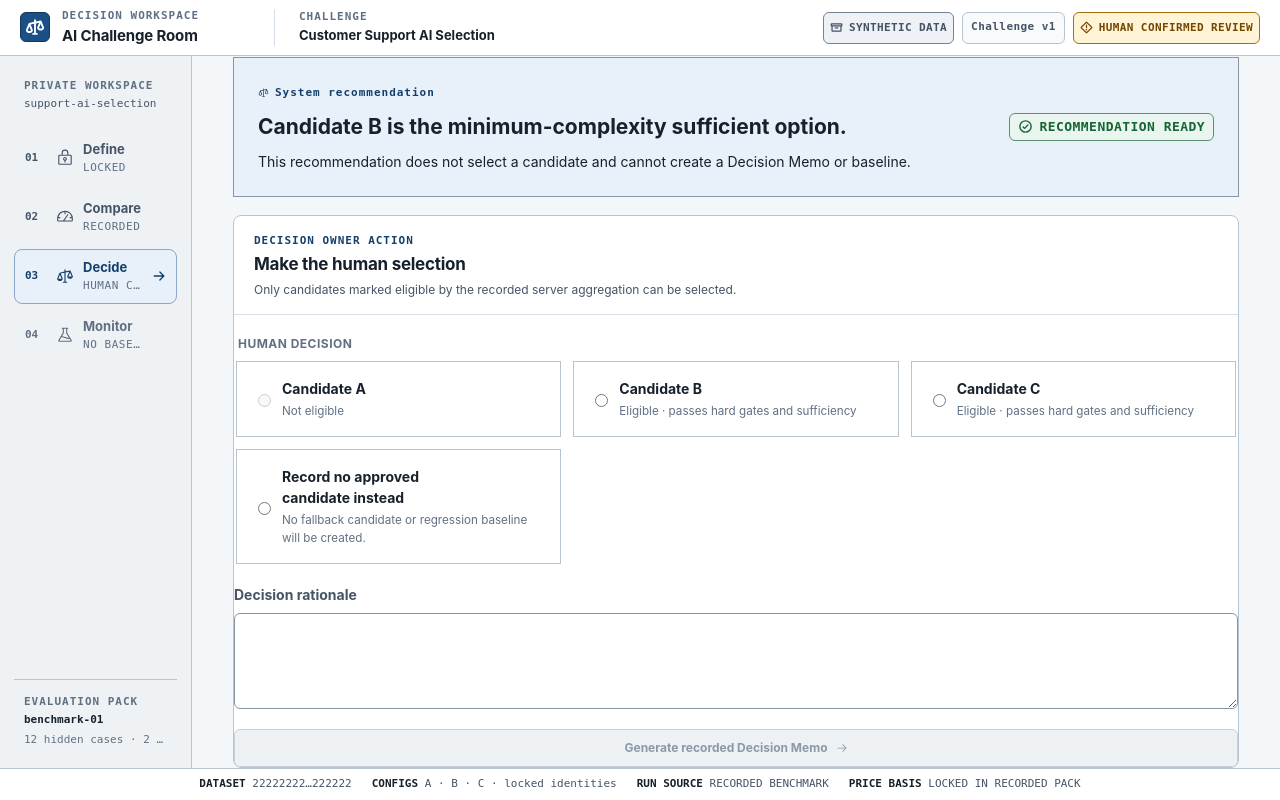
Test case: 권위 artifact 기반 Review·Decide·Monitor 라우트 › Memo 생성과 확인은 각각 서버 mutation 후 projection reload로만 상태를 전진시킨다
(page scrolled)
Check: the text "System recommendation" is shown, box [258, 85, 435, 100]
Check: the checkbox labelled "I reviewed the exact validated Final Decision Memo" is not shown
Click the radio button labelled "Candidate B Eligible · passes hard gates and sufficiency".
click(602, 401)  # box [595, 394, 608, 407]
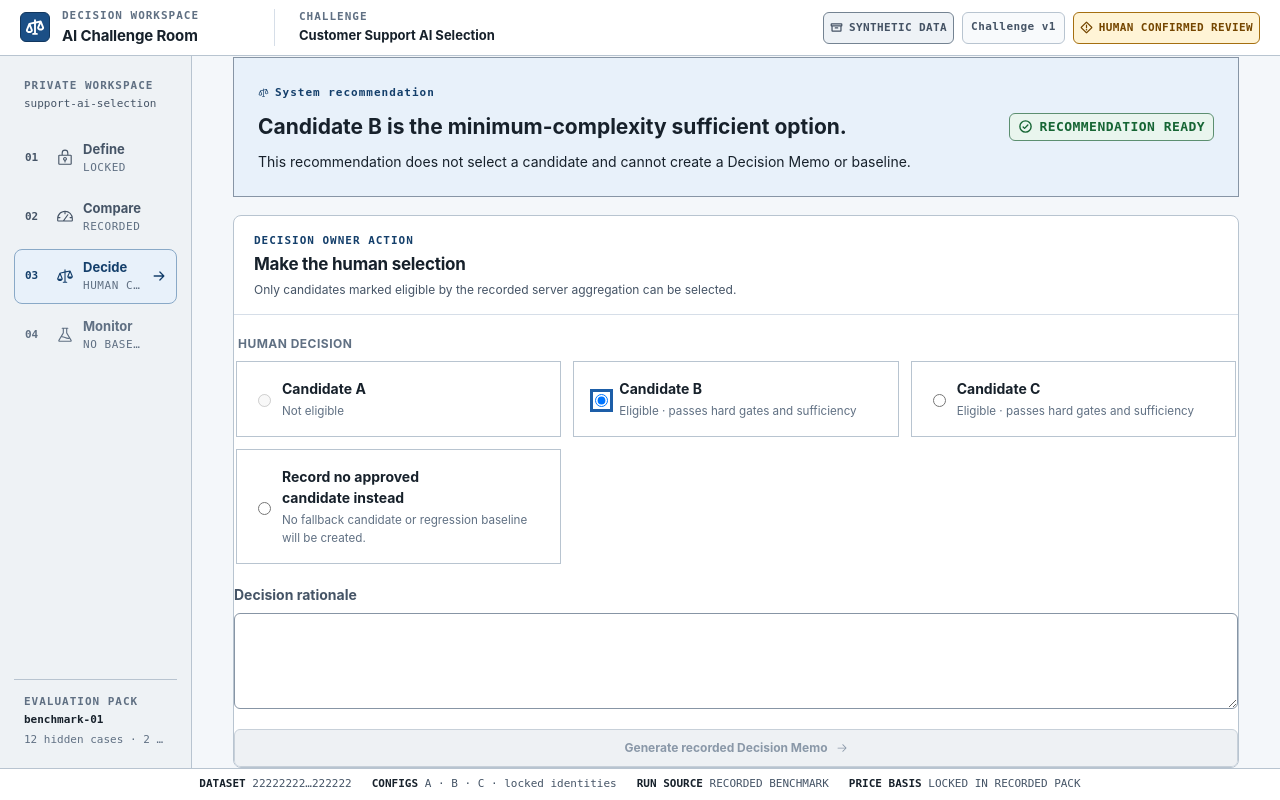
Type "Candidate B is the minimum-complexity sufficient option." into the text box labelled "Decision rationale".
click(736, 661); type("Candidate B is the minimum-complexity sufficient option.")  # box [234, 613, 1238, 709]
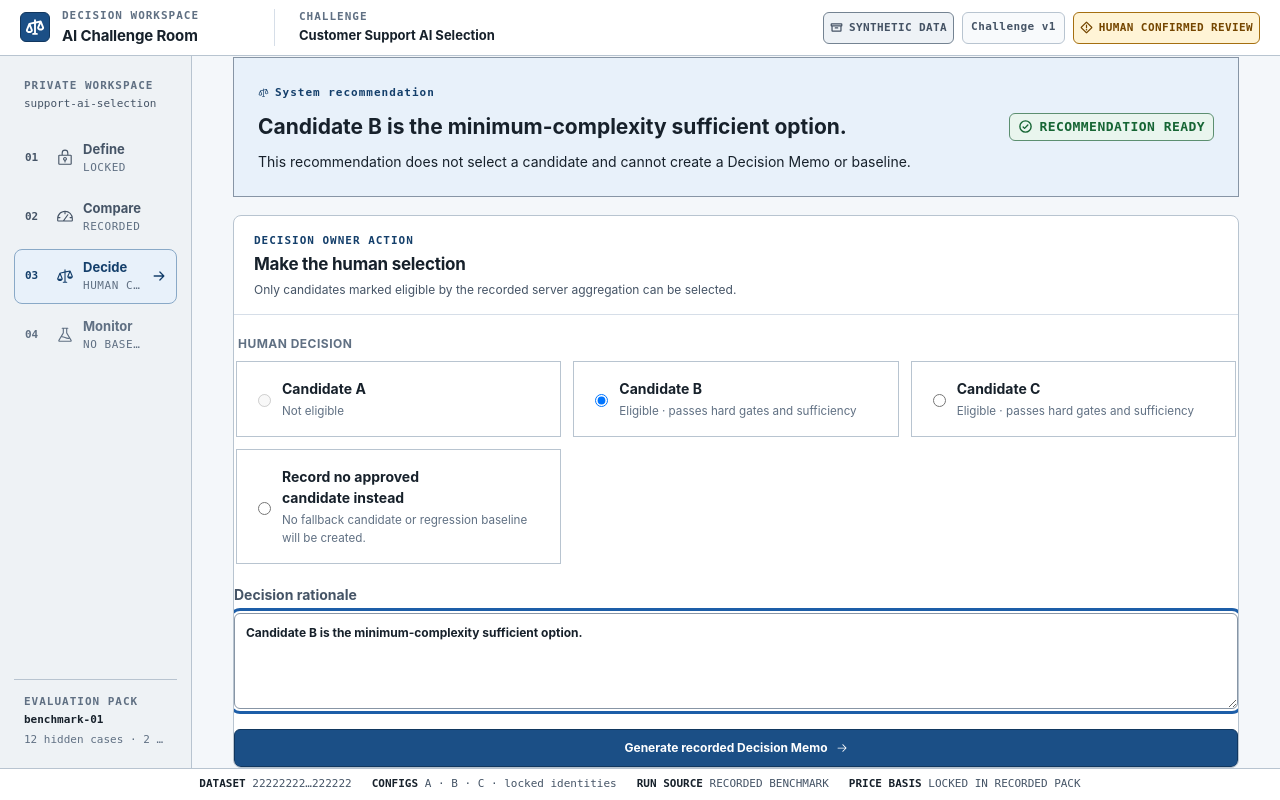
Click the button "Generate recorded Decision Memo".
click(736, 748)  # box [234, 729, 1238, 767]
(page scrolled)
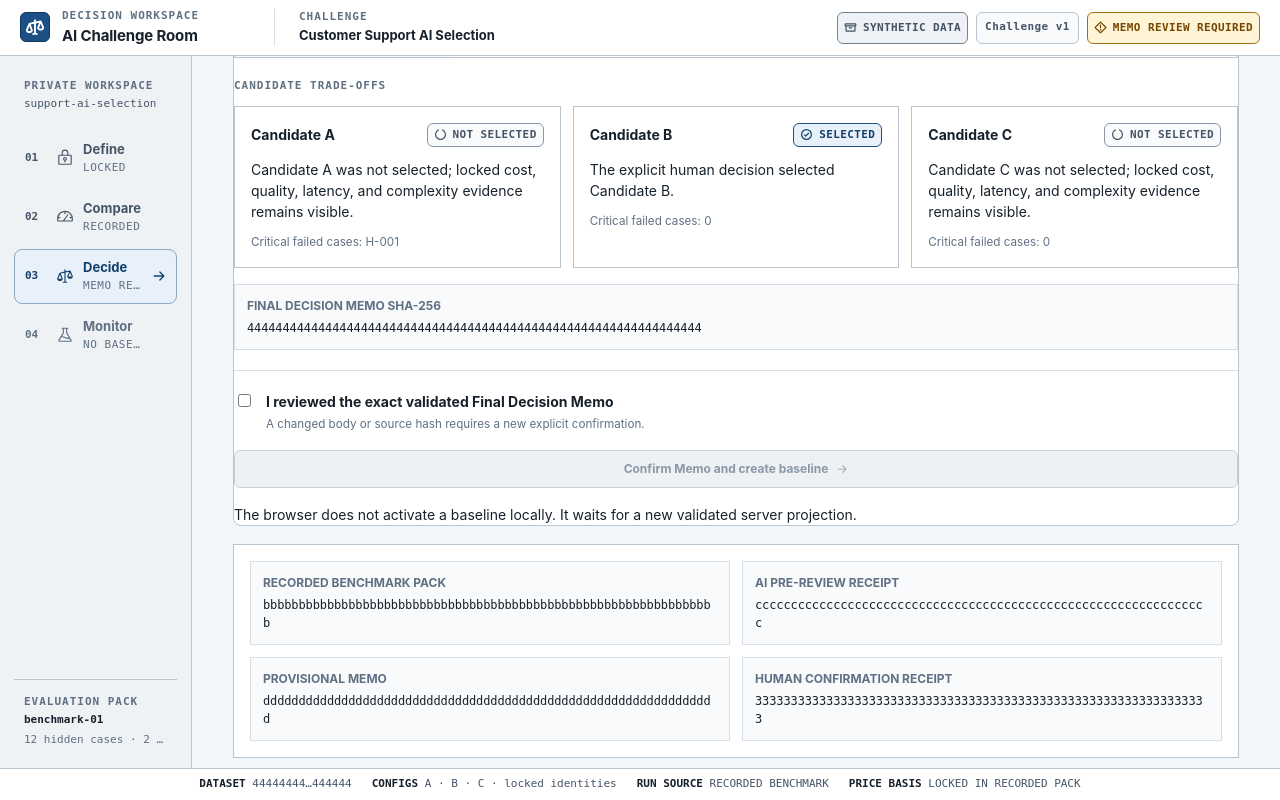
Check: the text "ACTIVE BASELINE" is not shown
Check: the text "No purchase, contract, deployment, or rollback was executed." is shown, box [470, 7, 881, 24]
Click the checkbox labelled "I reviewed the exact validated Final Decision Memo".
click(244, 401)  # box [238, 394, 251, 407]
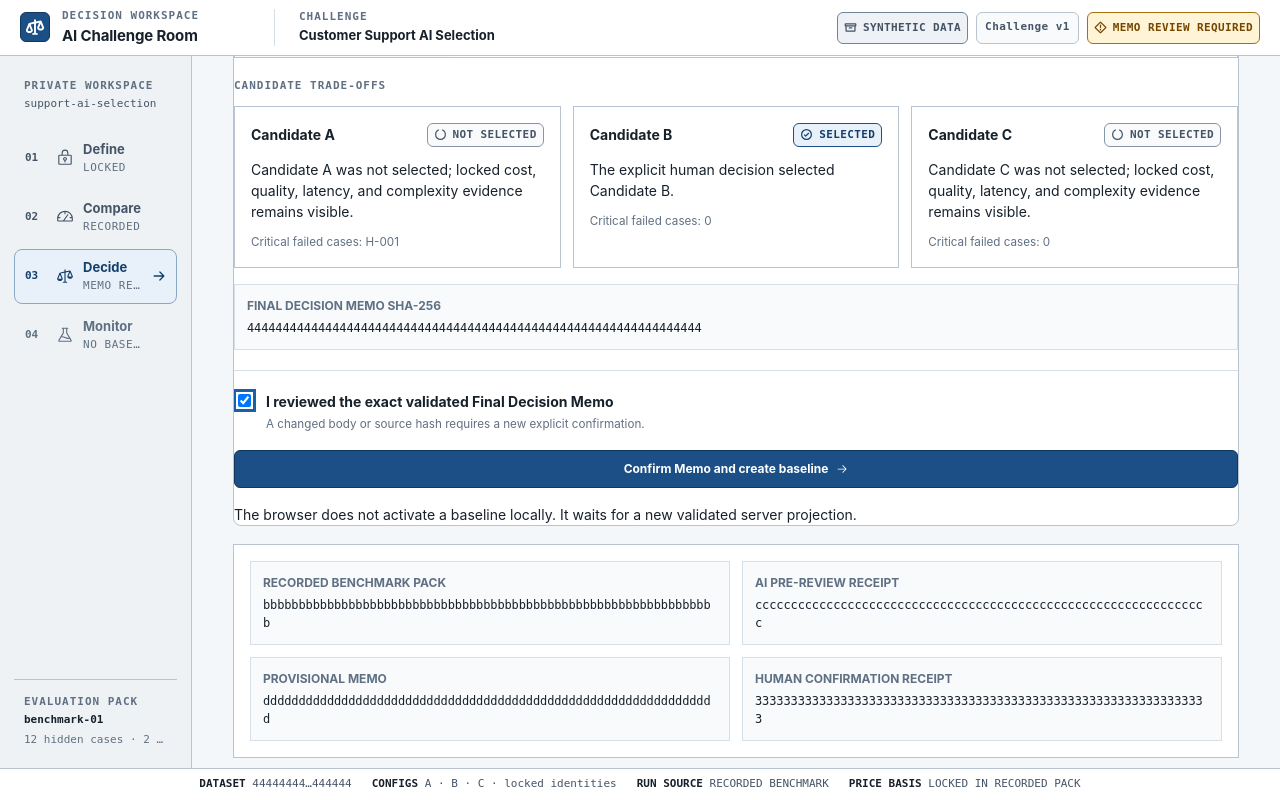
Click the button with aria-label "Confirm the exact Decision Memo and create baseline".
click(736, 469)  # box [234, 450, 1238, 488]
(page scrolled)
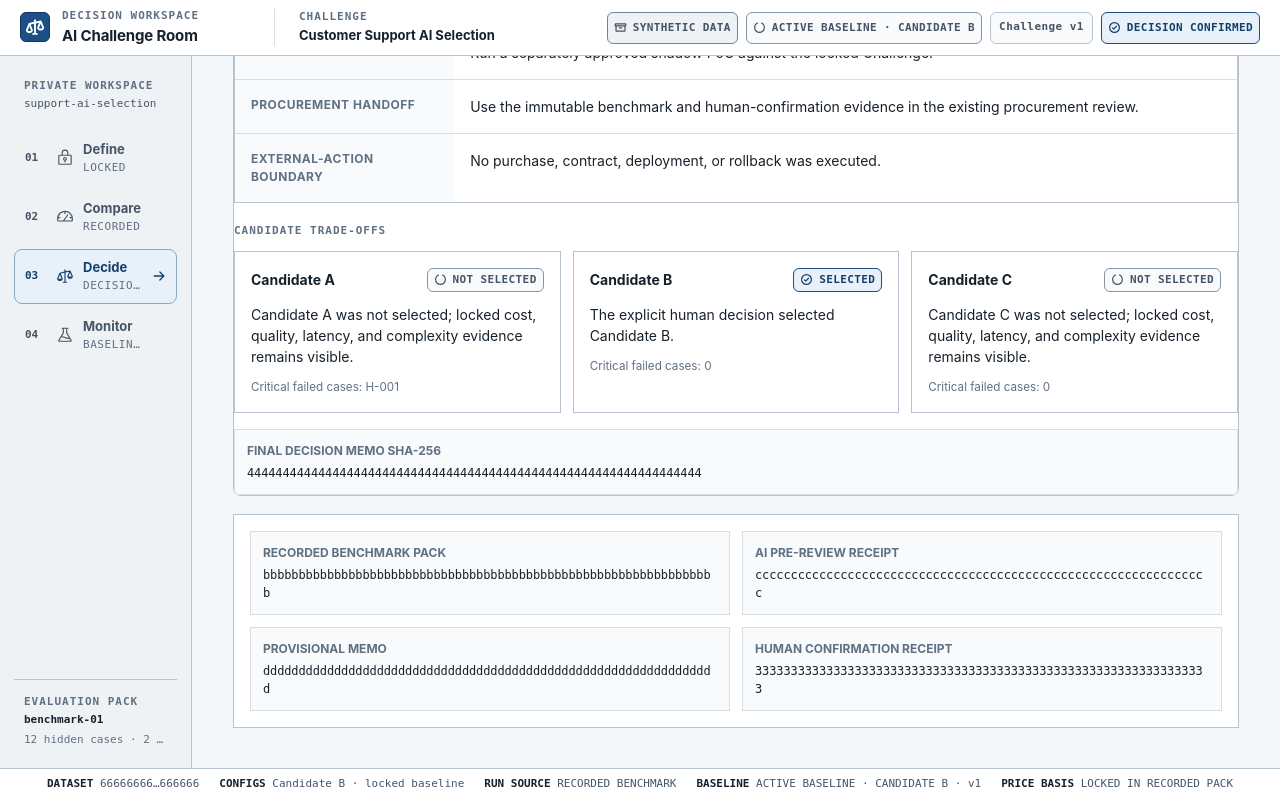
Check: the text "DECISION CONFIRMED" next to "Challenge v1" is shown, box [1127, 21, 1253, 34]
